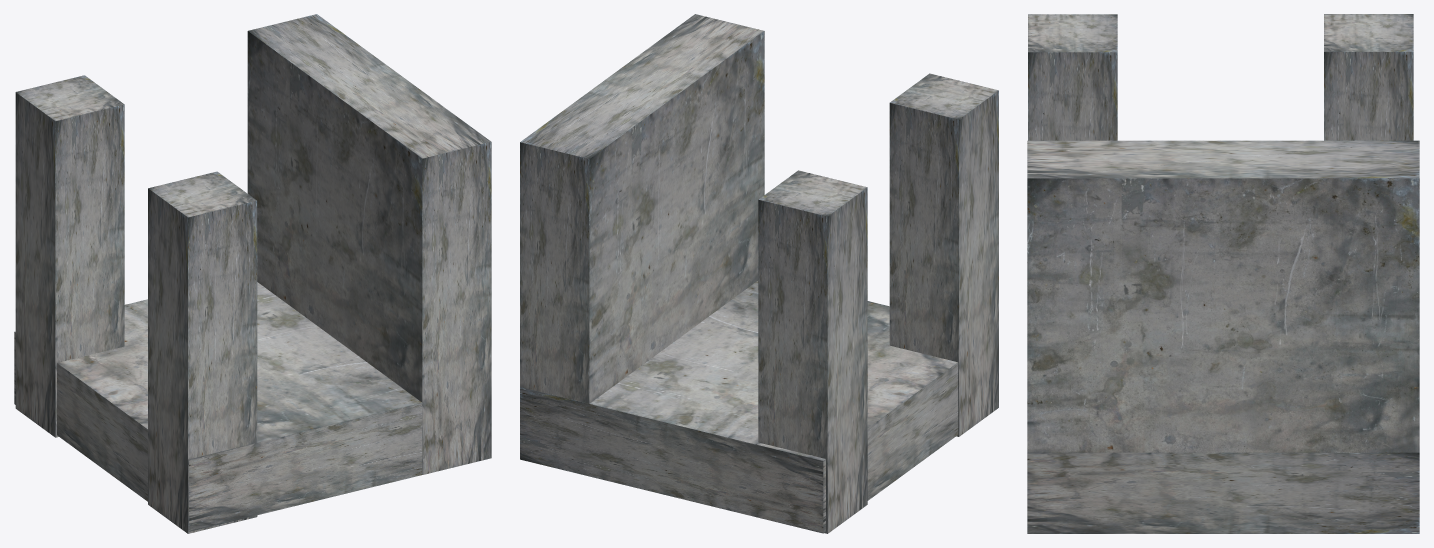
File: Lueftungsschacht_03NEU.fbx
3 views of the same model, side by side, from view 1: azimuth 30°, elevation 25°; view 2: azimuth 150°, elevation 25°; view 3: azimuth 270°, elevation 25° (orthographic). The views are drawn at different scales.
Parts seen in each view (by area): view 1: pCube31; view 2: pCube31; view 3: pCube31.
Boxes of the visible parts, x1,y1,x2,y2 form: pCube31: [14, 14, 491, 533]; pCube31: [520, 14, 998, 533]; pCube31: [1027, 14, 1419, 533].
Size of the model in its own units: 17.59 by 17.61 by 17.51.
1 material, 1 textured.
